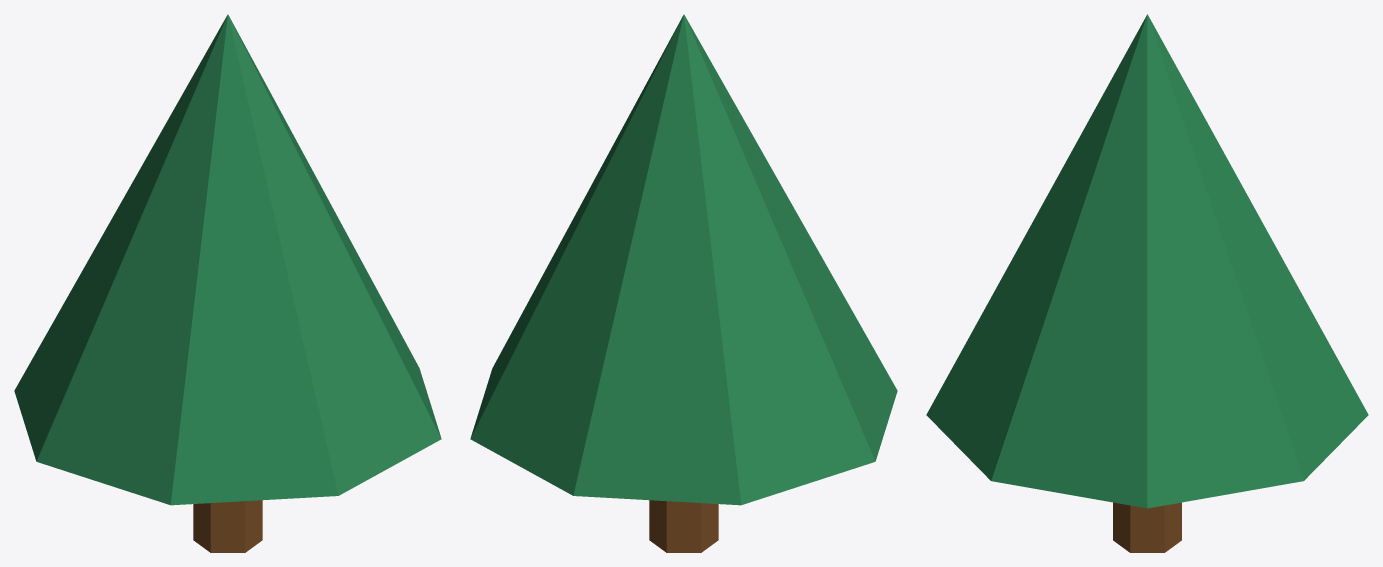
The model's file is tree-a-proto.glb.
The picture shows the model from 3 angles, left to right: view 1: azimuth 30°, elevation 25°; view 2: azimuth 150°, elevation 25°; view 3: azimuth 270°, elevation 25°; orthographic projection.
Visible parts, largest first — view 1: tree-a-proto; view 2: tree-a-proto; view 3: tree-a-proto.
Part boxes in pixels (bbox=[...]): tree-a-proto: bbox=[14, 14, 441, 552]; tree-a-proto: bbox=[470, 14, 897, 552]; tree-a-proto: bbox=[926, 14, 1368, 552].
Bounding box in the file's own units: 3.2 × 4.2 × 3.2.
